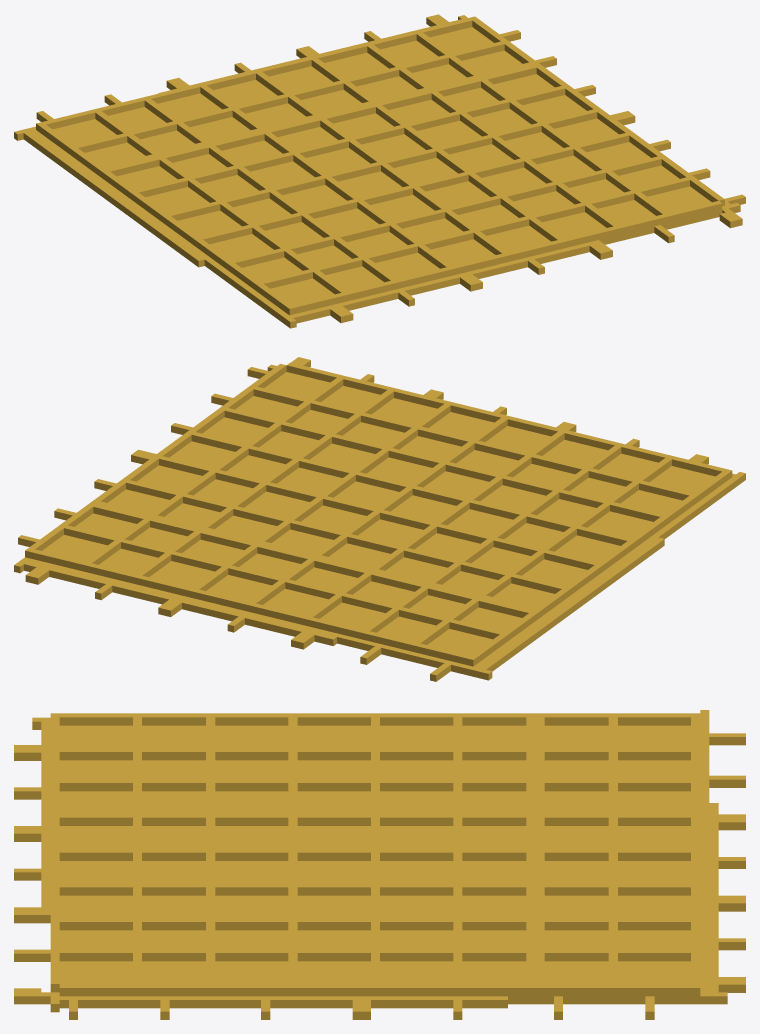
File: kevlar_patch.glb
3 renders of one model, top to bottom at view 1: azimuth 30°, elevation 25°; view 2: azimuth 150°, elevation 25°; view 3: azimuth 270°, elevation 25°, orthographic. The views are drawn at different scales.
Visible parts, largest first — view 1: kevlar_patch:compound; view 2: kevlar_patch:compound; view 3: kevlar_patch:compound.
Part boxes in pixels (x1,y1,x2,y2): kevlar_patch:compound: (14,14,745,328); kevlar_patch:compound: (14,357,745,681); kevlar_patch:compound: (14,710,745,1019).
Bounding box in the file's own units: 0.156 × 0.004 × 0.16.
